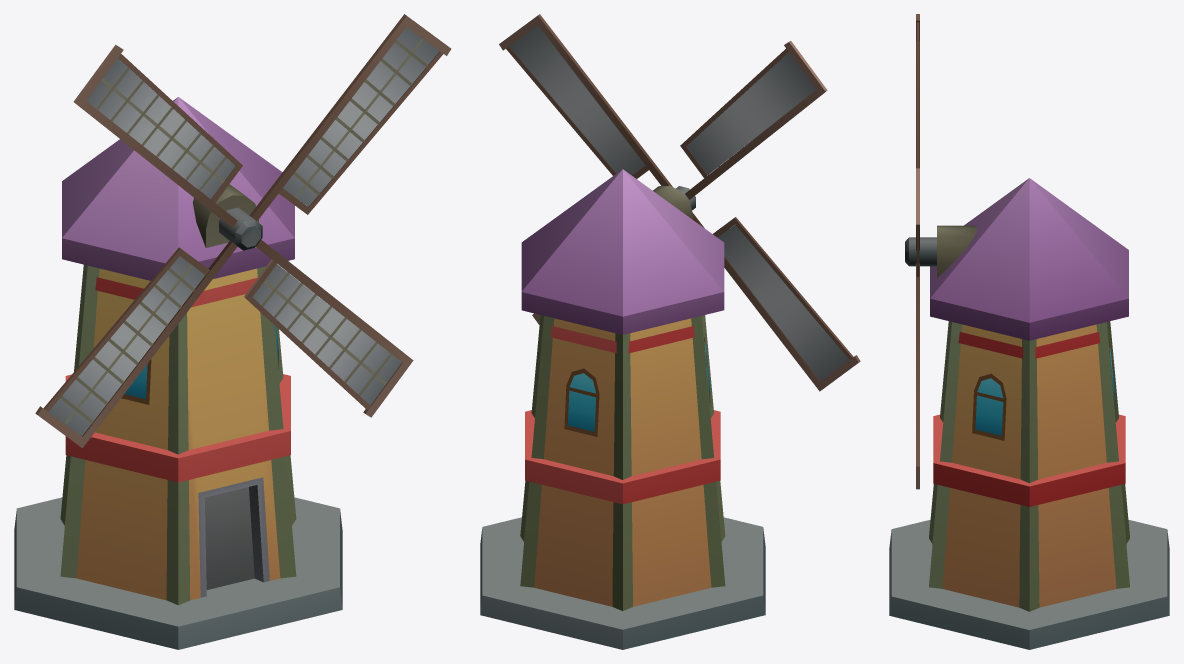
The model's file is Windmill.fbx.
The picture shows the model from 3 angles, left to right: view 1: azimuth 30°, elevation 25°; view 2: azimuth 150°, elevation 25°; view 3: azimuth 270°, elevation 25°; orthographic projection. The views are drawn at different scales.
Parts seen in each view (by area): view 1: Mill, Blades; view 2: Mill, Blades; view 3: Mill, Blades.
Boxes of the visible parts, x1,y1,x2,y2 form: Mill: (14, 97, 342, 649); Blades: (35, 14, 451, 447); Mill: (480, 169, 765, 649); Blades: (499, 14, 860, 391); Mill: (889, 178, 1169, 649); Blades: (905, 14, 936, 489).
Bounding box in the file's own units: 1517 × 2112 × 1041.
